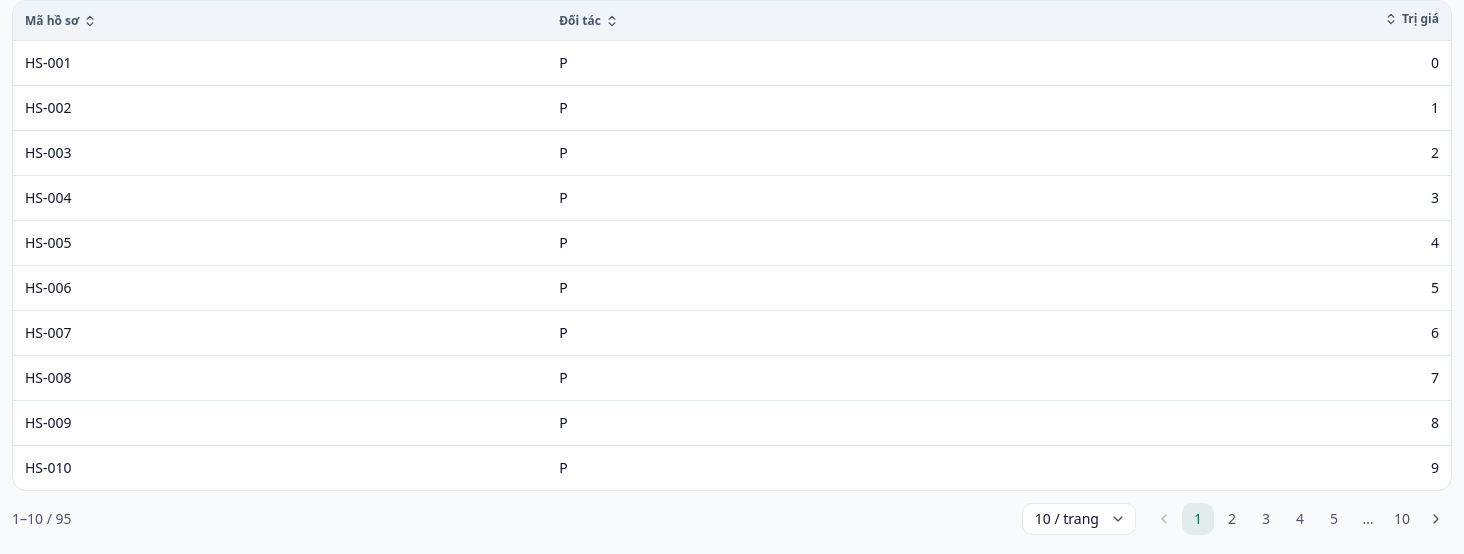
DataTable – phân trang › controlled + rowCount (server): không tự cắt dữ liệu, báo trang mới ra ngoài
The width and height of the screenshot is (1464, 554).
Expected: the text "1–10 / 95" is shown, [12,509,72,529]
Click the button named "Trang sau" at (1436, 519), box [1420,503,1452,535]
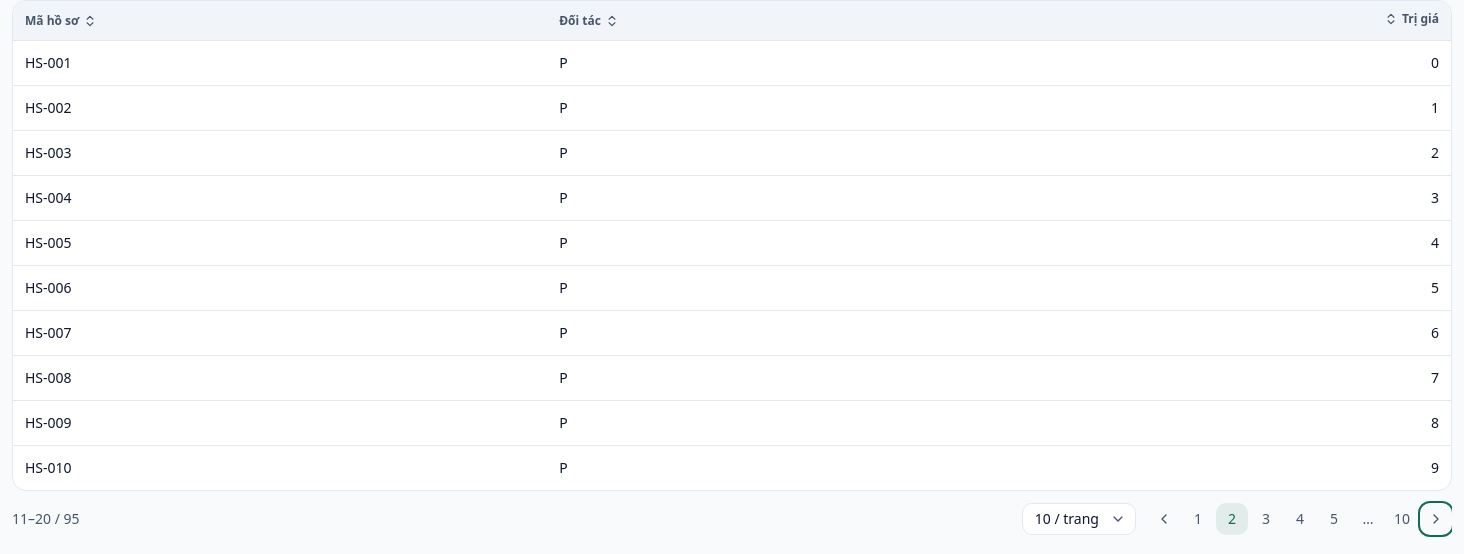
Expected: the text "11–20 / 95" is shown, [12,509,80,529]
